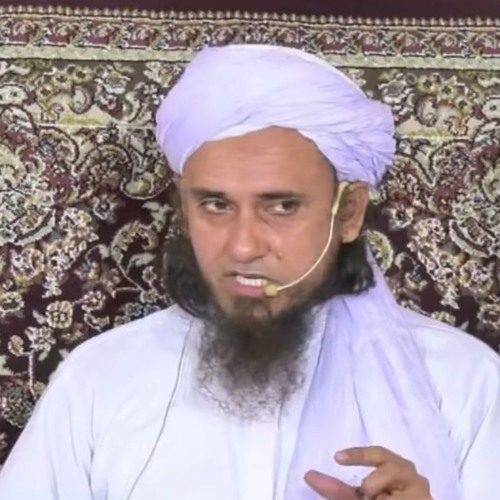NoMask: (188, 177, 318, 325)
